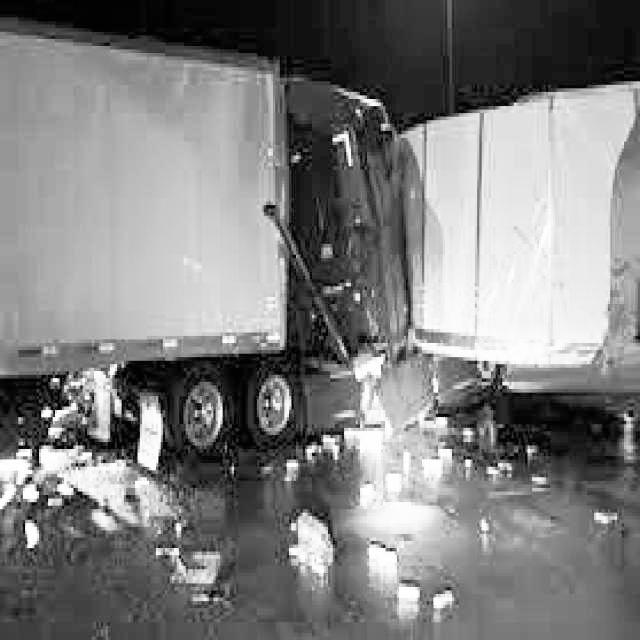Truck: (0, 25, 415, 464)
